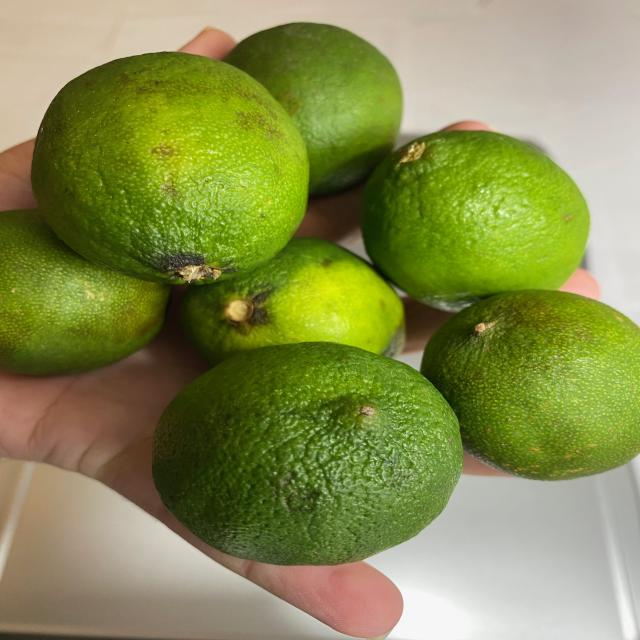lemon: (4, 20, 637, 562)
